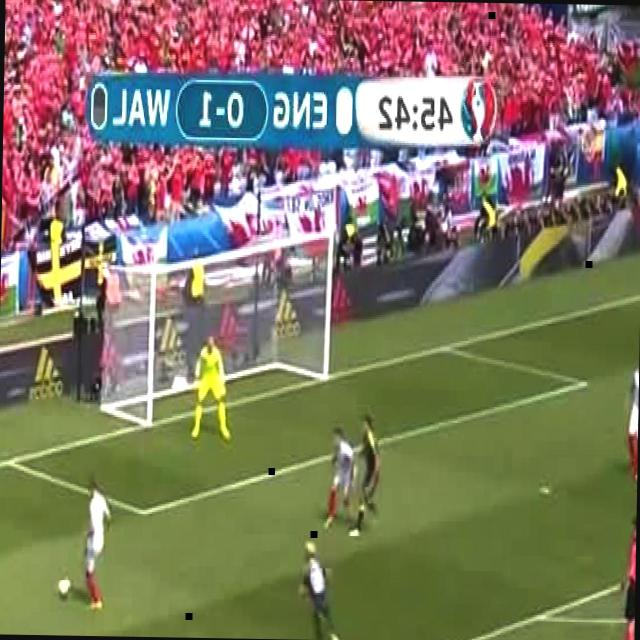ball: (59, 571, 70, 597)
player-white: (298, 537, 356, 640), (192, 334, 232, 442), (78, 477, 110, 611), (349, 415, 381, 540), (324, 423, 356, 529), (622, 514, 636, 640), (625, 358, 639, 481)
